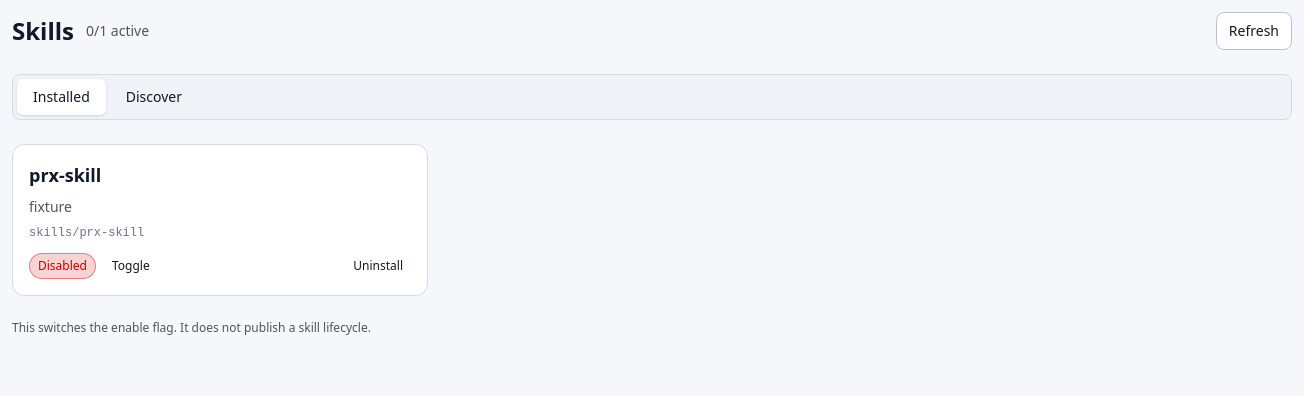
Scenario: toggles a skill and shows the returned fields
Expected: the text "does not publish a skill lifecycle" is shown, [12,319,371,336]
Click the button with aria-label "Toggle prx-skill": (131, 266) [104,254,158,278]
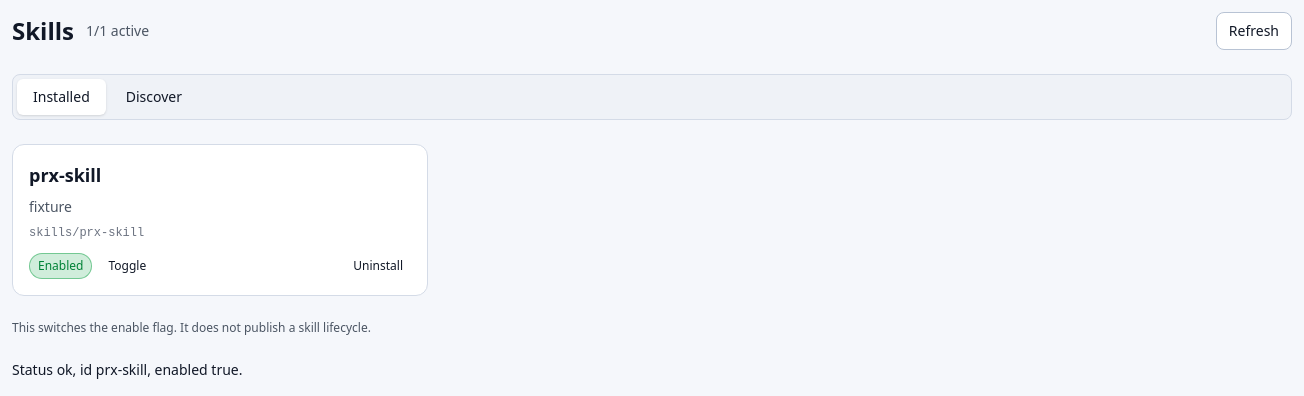
Expected: the text "Status ok, id prx-skill, enabled true." is shown, [12,360,242,379]
